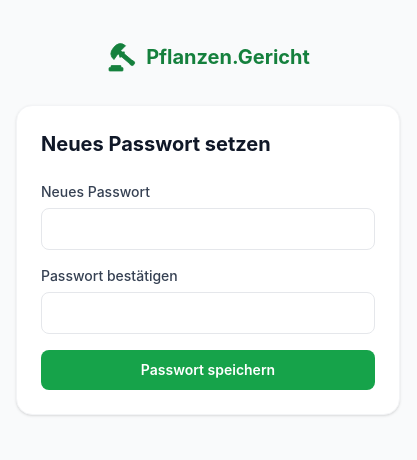
it: PasswordNewView › given the passwords differ › shows an error and does not update the password
Type "password-one" into the password field labelled "Neues Passwort" at (208, 229), box [41,208,375,250]
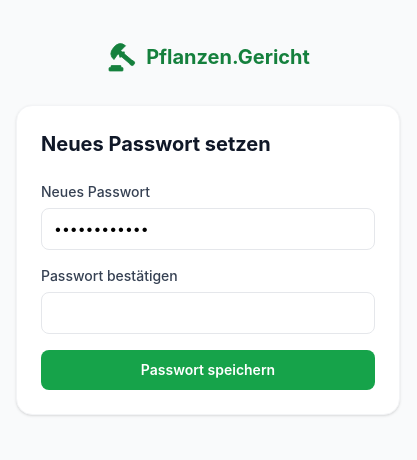
Type "password-two" into the password field labelled "Passwort bestätigen" at (208, 313), box [41,292,375,334]
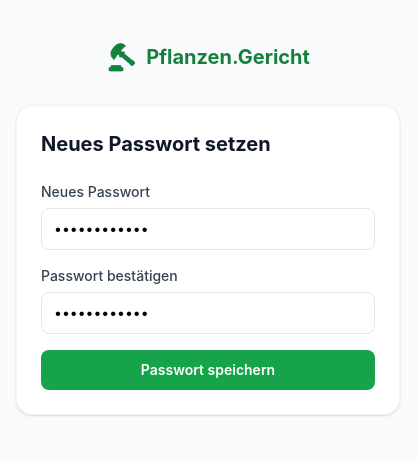
Submit the form, box [41,182,375,390]
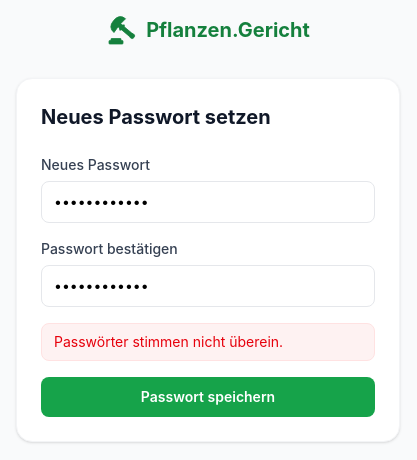
Check: the message "Passwörter stimmen nicht überein." is shown, box [41,323,375,361]
